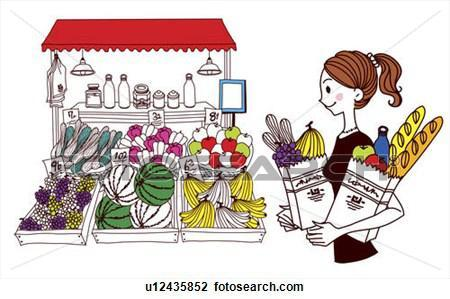bottle: (372, 124, 391, 167), (116, 73, 132, 111), (132, 82, 152, 111), (101, 72, 116, 109), (182, 72, 196, 109), (83, 83, 103, 108), (152, 88, 164, 108), (167, 90, 179, 108)
person: (273, 48, 409, 268)
